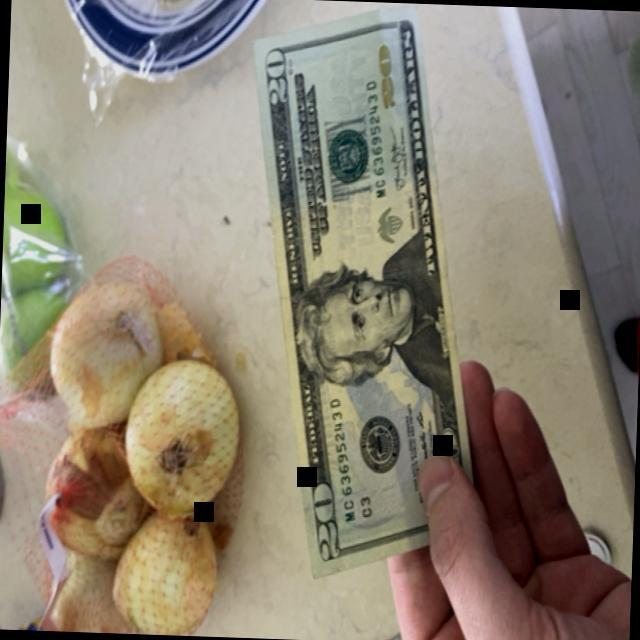twenty: (251, 3, 476, 586)
